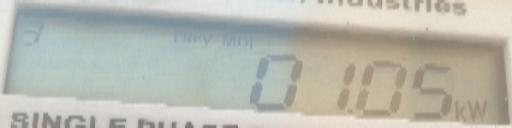0: (251, 45, 303, 112), (363, 59, 407, 116)
1: (334, 58, 356, 111)
5: (410, 62, 460, 123)
d: (346, 106, 357, 114)
